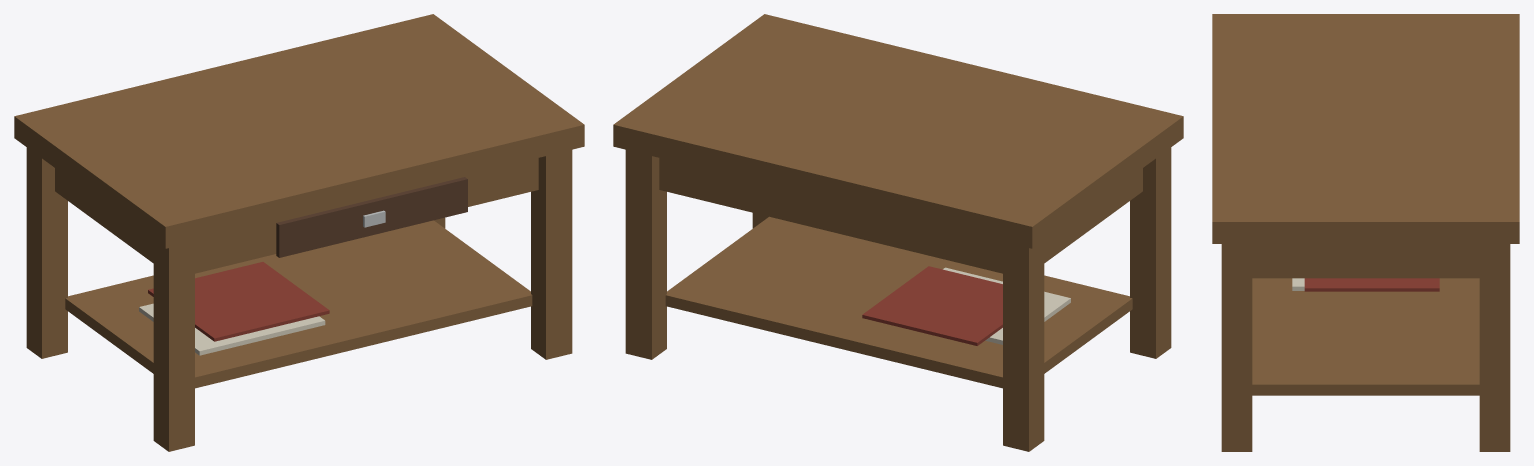
Rendered from coffee_table.glb.
3 renders of one model, left to right at view 1: azimuth 30°, elevation 25°; view 2: azimuth 150°, elevation 25°; view 3: azimuth 270°, elevation 25°, orthographic.
Visible parts, largest first — view 1: coffee_table; view 2: coffee_table; view 3: coffee_table.
Boxes of the visible parts, bbox=[...] form: coffee_table: bbox=[14, 14, 584, 451]; coffee_table: bbox=[613, 14, 1183, 451]; coffee_table: bbox=[1212, 14, 1519, 451].
Size of the model in its own units: 0.8 by 0.42 by 0.5.
